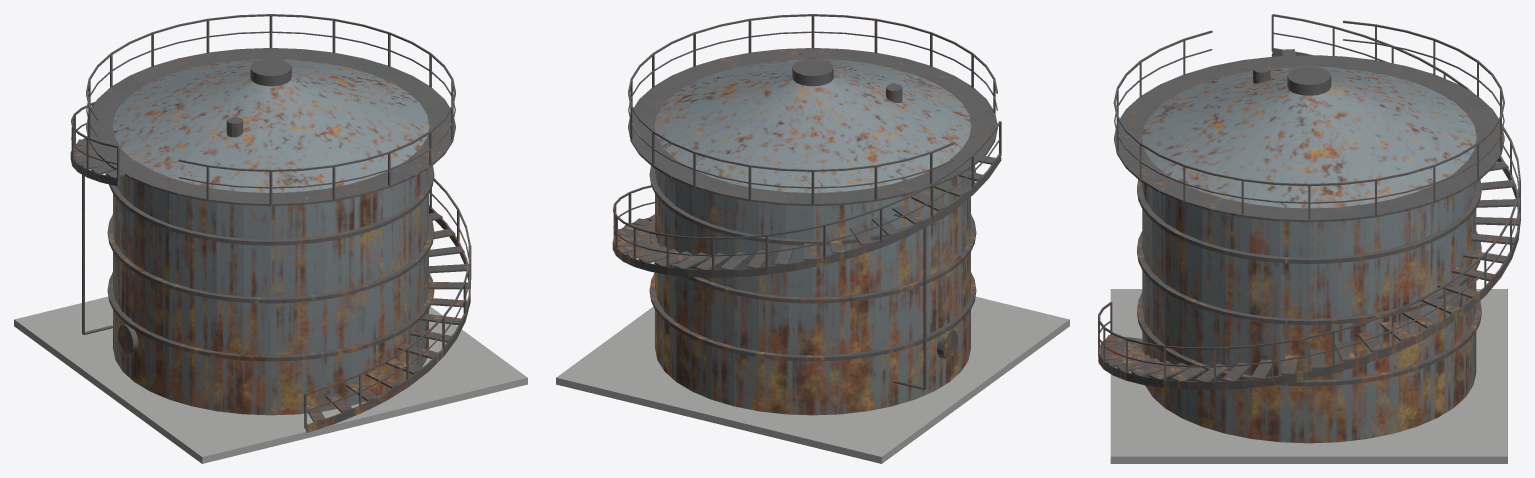
The model's file is Silo1.glb.
3 views of the same model, side by side, from view 1: azimuth 30°, elevation 25°; view 2: azimuth 150°, elevation 25°; view 3: azimuth 270°, elevation 25° (orthographic). The views are drawn at different scales.
Parts seen in each view (by area): view 1: Silo1, Silo1.001; view 2: Silo1, Silo1.001; view 3: Silo1, Silo1.001.
Boxes of the visible parts, box(x1,y1,x2,y2) form: Silo1: box(70, 14, 471, 432); Silo1.001: box(14, 296, 527, 463); Silo1: box(612, 14, 1001, 415); Silo1.001: box(556, 296, 1069, 463); Silo1: box(1098, 14, 1520, 443); Silo1.001: box(1110, 289, 1507, 463).
Bounding box in the file's own units: 10.65 × 8.45 × 10.65.
1 material, 1 textured.
